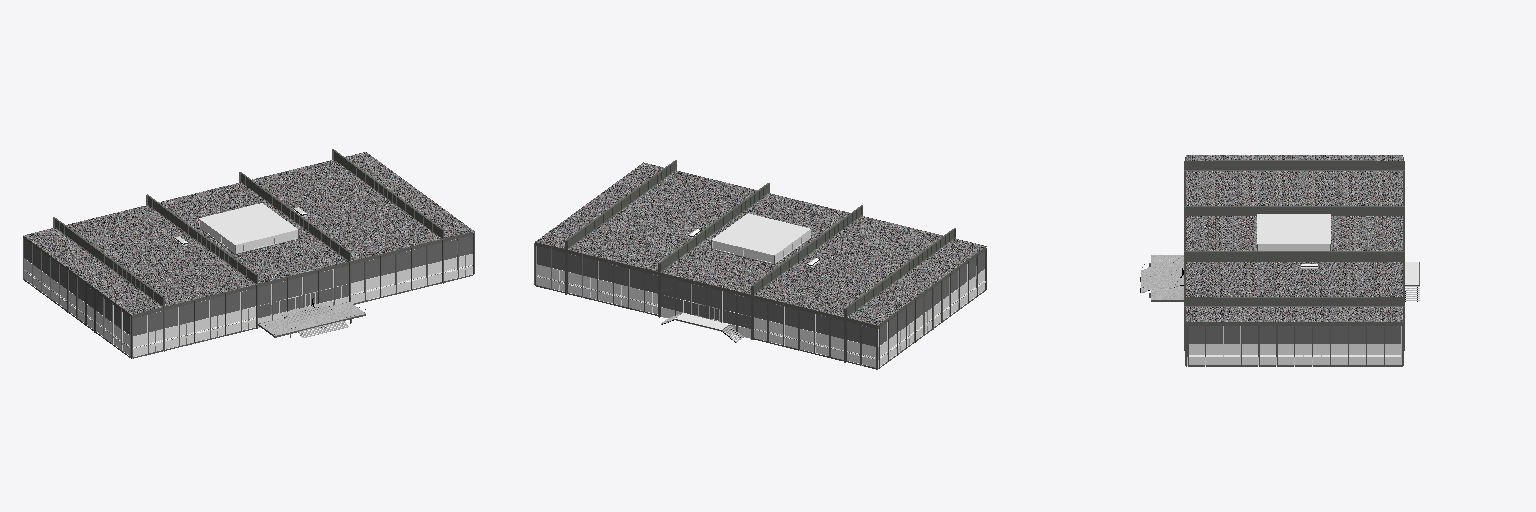
3 renders of one model, left to right at view 1: azimuth 30°, elevation 25°; view 2: azimuth 150°, elevation 25°; view 3: azimuth 270°, elevation 25°, orthographic.
Bounding box in the file's own units: 67.91 × 10.16 × 47.67.
Materials: 13 (3 with a texture image).